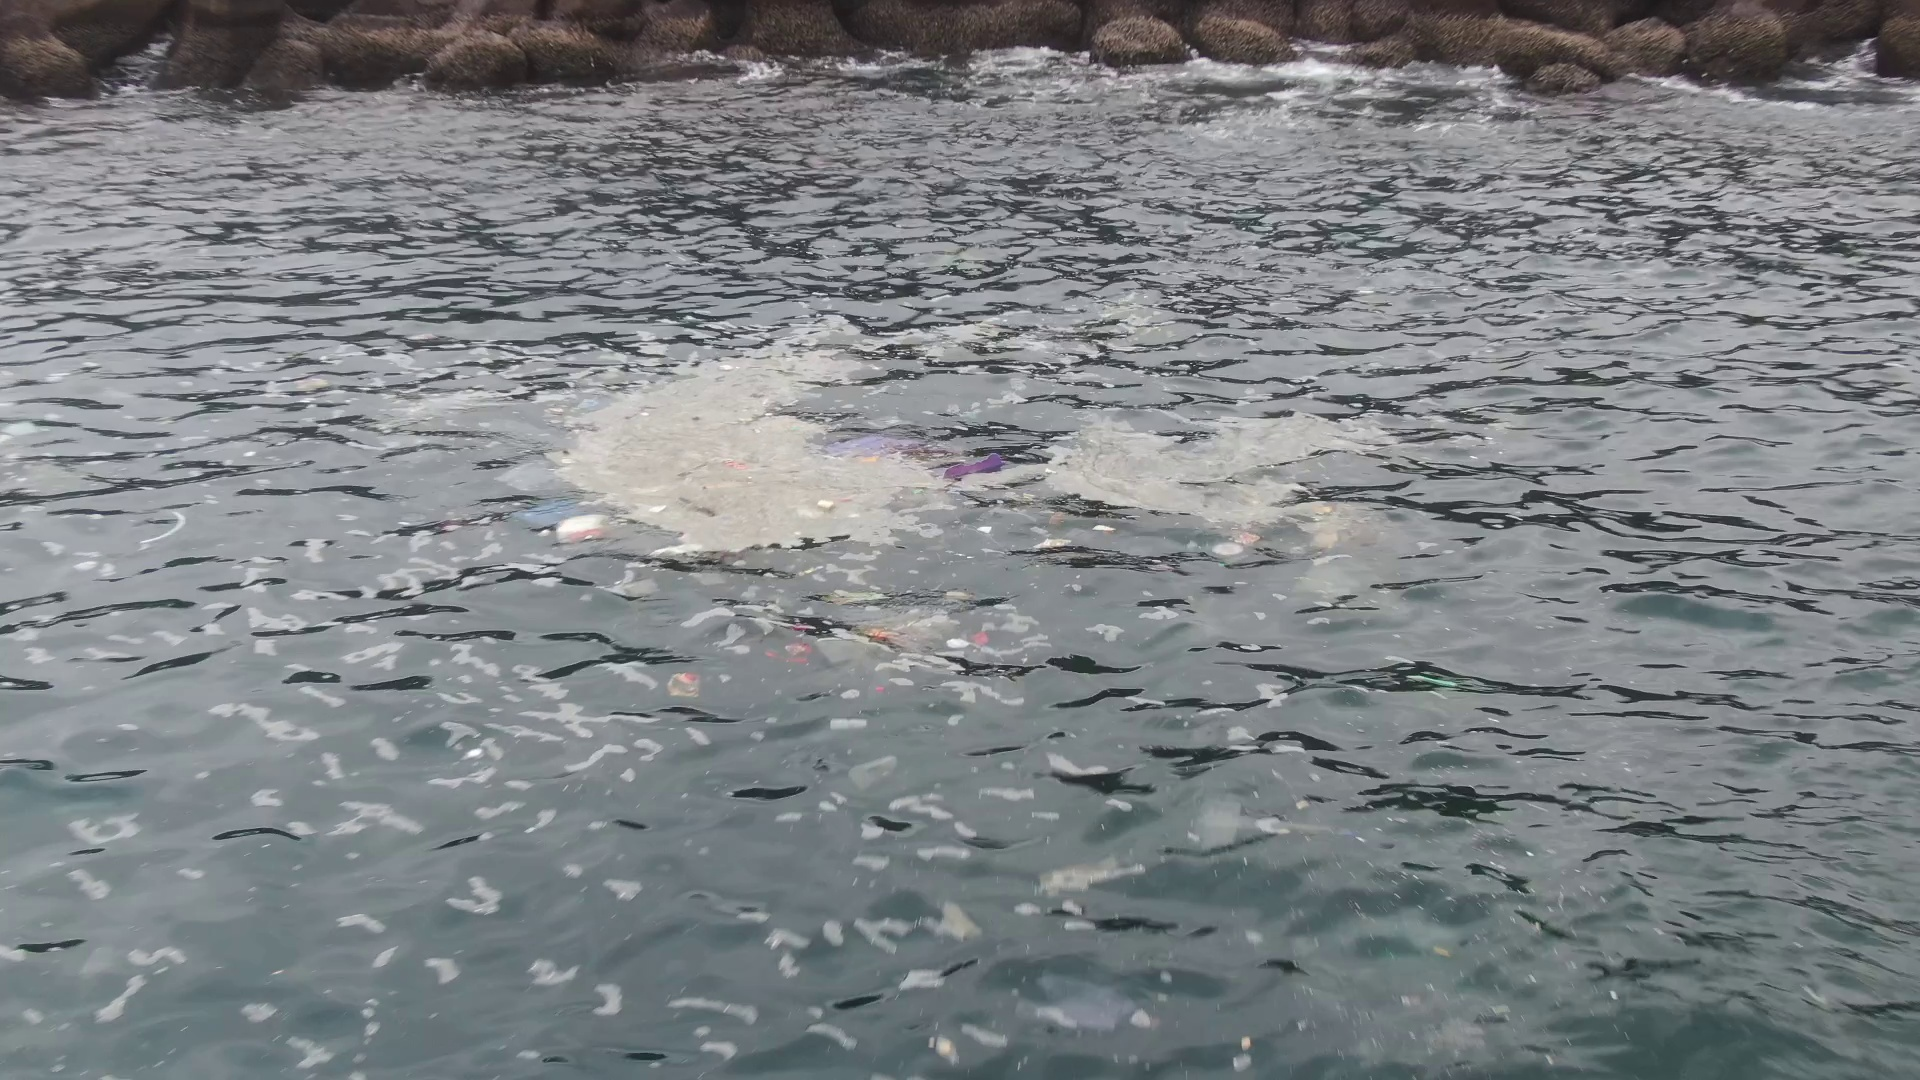garbage: (498, 349, 1015, 567), (770, 589, 996, 665), (662, 670, 703, 702), (1408, 670, 1457, 692)
